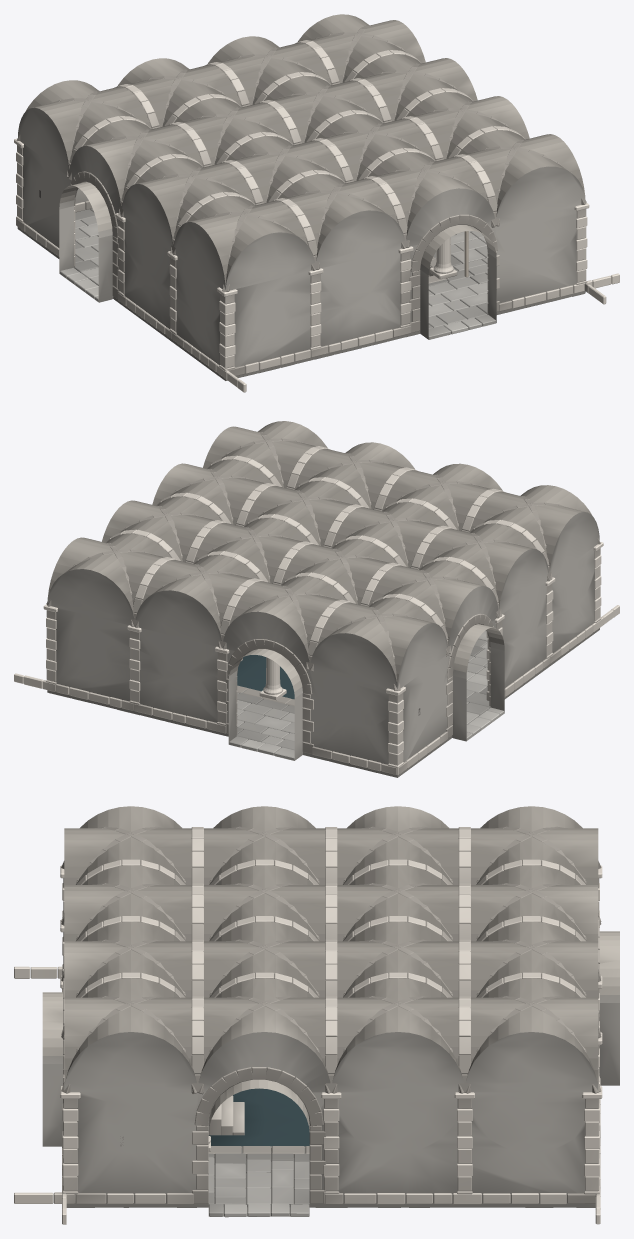
File: dng_cistern.glb
3 renders of one model, top to bottom at view 1: azimuth 30°, elevation 25°; view 2: azimuth 150°, elevation 25°; view 3: azimuth 270°, elevation 25°, orthographic. The views are drawn at different scales.
Parts seen in each view (by area): view 1: archivolt; view 2: archivolt; view 3: archivolt.
Boxes of the visible parts, x1,y1,x2,y2 form: archivolt: (14, 14, 619, 392); archivolt: (14, 421, 619, 777); archivolt: (14, 806, 619, 1224).
Bounding box in the file's own units: 16.79 × 7.02 × 16.79.
